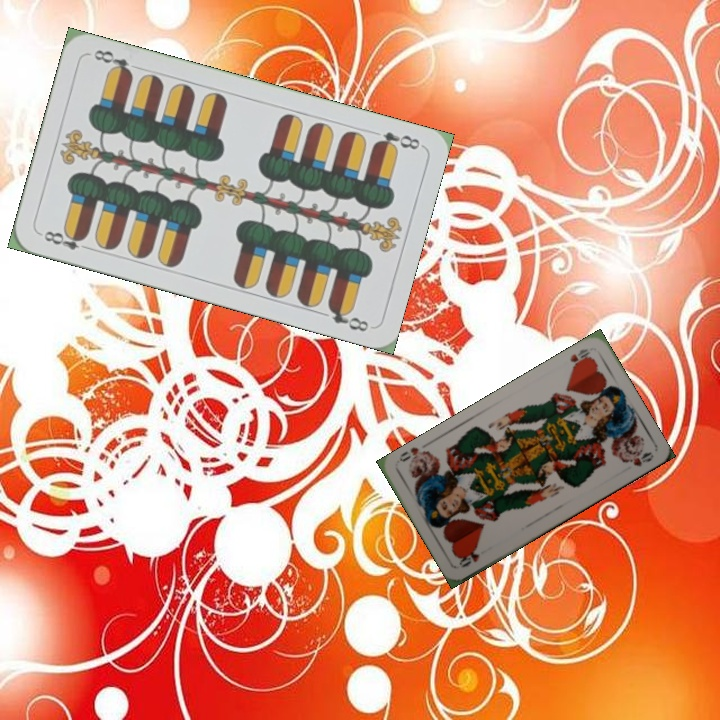E8: (39, 226, 94, 253), (370, 127, 423, 154)
HO: (566, 344, 594, 372), (455, 548, 482, 570)
